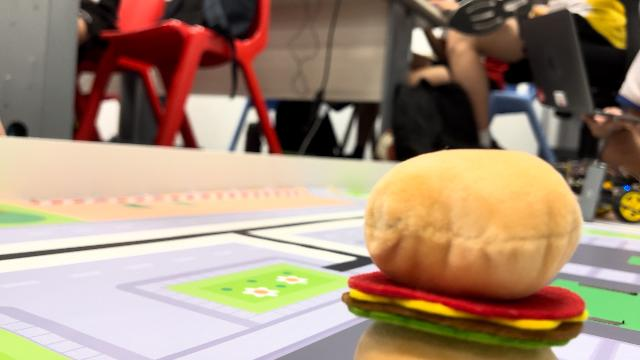burger: (340, 148, 590, 360)
